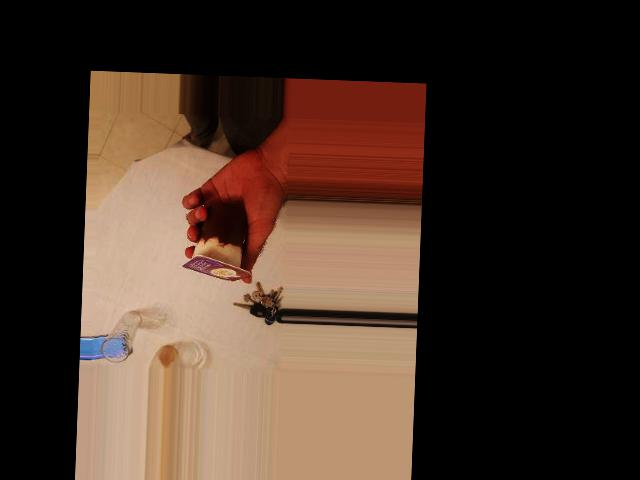milky: (110, 209, 201, 273)
